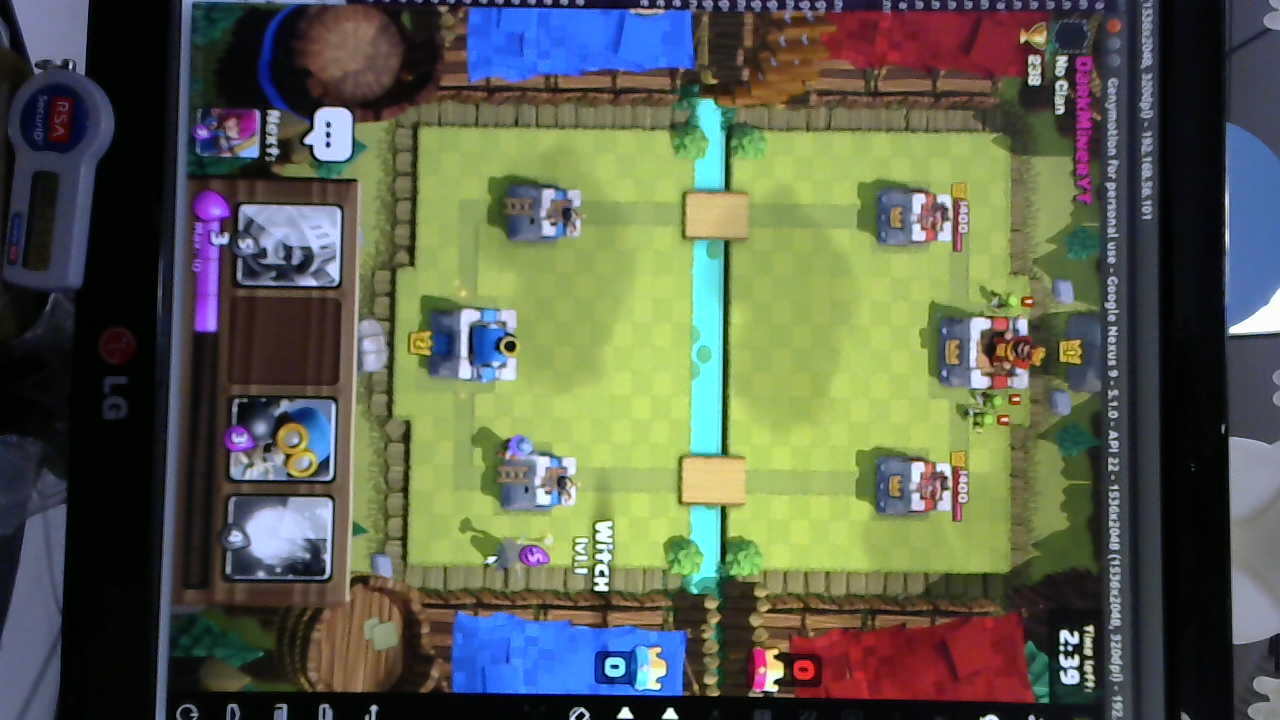arena: (502, 177, 586, 245), (500, 453, 581, 512)
earena: (877, 183, 957, 249), (874, 454, 949, 517)
eking: (941, 312, 1038, 399)
goblin: (980, 291, 1035, 314)
goblins: (962, 391, 1021, 429)
king: (429, 305, 522, 384)
musketeer: (492, 430, 535, 462)
